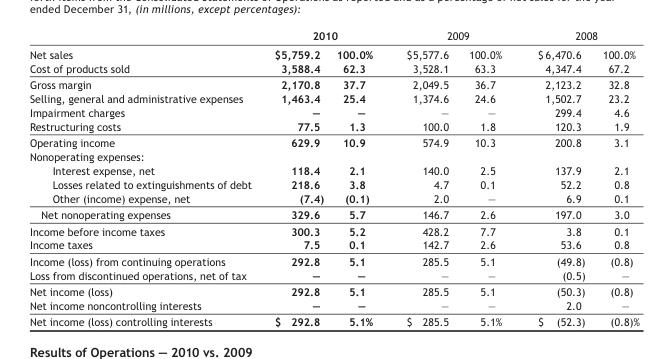table: (28, 28, 638, 327)
table column: (28, 28, 262, 327), (519, 28, 593, 327), (388, 28, 458, 327), (262, 28, 329, 327), (458, 28, 519, 327), (329, 28, 388, 327), (593, 28, 638, 327)
table column header: (28, 28, 638, 60)
table projected row header: (28, 149, 638, 163)
table row: (28, 28, 638, 44), (28, 44, 638, 60), (28, 60, 638, 76), (28, 118, 638, 134), (28, 190, 638, 206), (28, 206, 638, 222), (28, 267, 638, 283), (28, 76, 638, 91), (28, 134, 638, 149), (28, 222, 638, 237), (28, 237, 638, 252), (28, 252, 638, 267), (28, 283, 638, 298), (28, 298, 638, 313), (28, 91, 638, 105), (28, 149, 638, 163), (28, 163, 638, 177), (28, 313, 638, 327), (28, 105, 638, 118), (28, 177, 638, 190)
table spanning cell: (28, 28, 262, 60), (388, 28, 519, 44), (262, 28, 388, 44), (519, 28, 638, 44)
